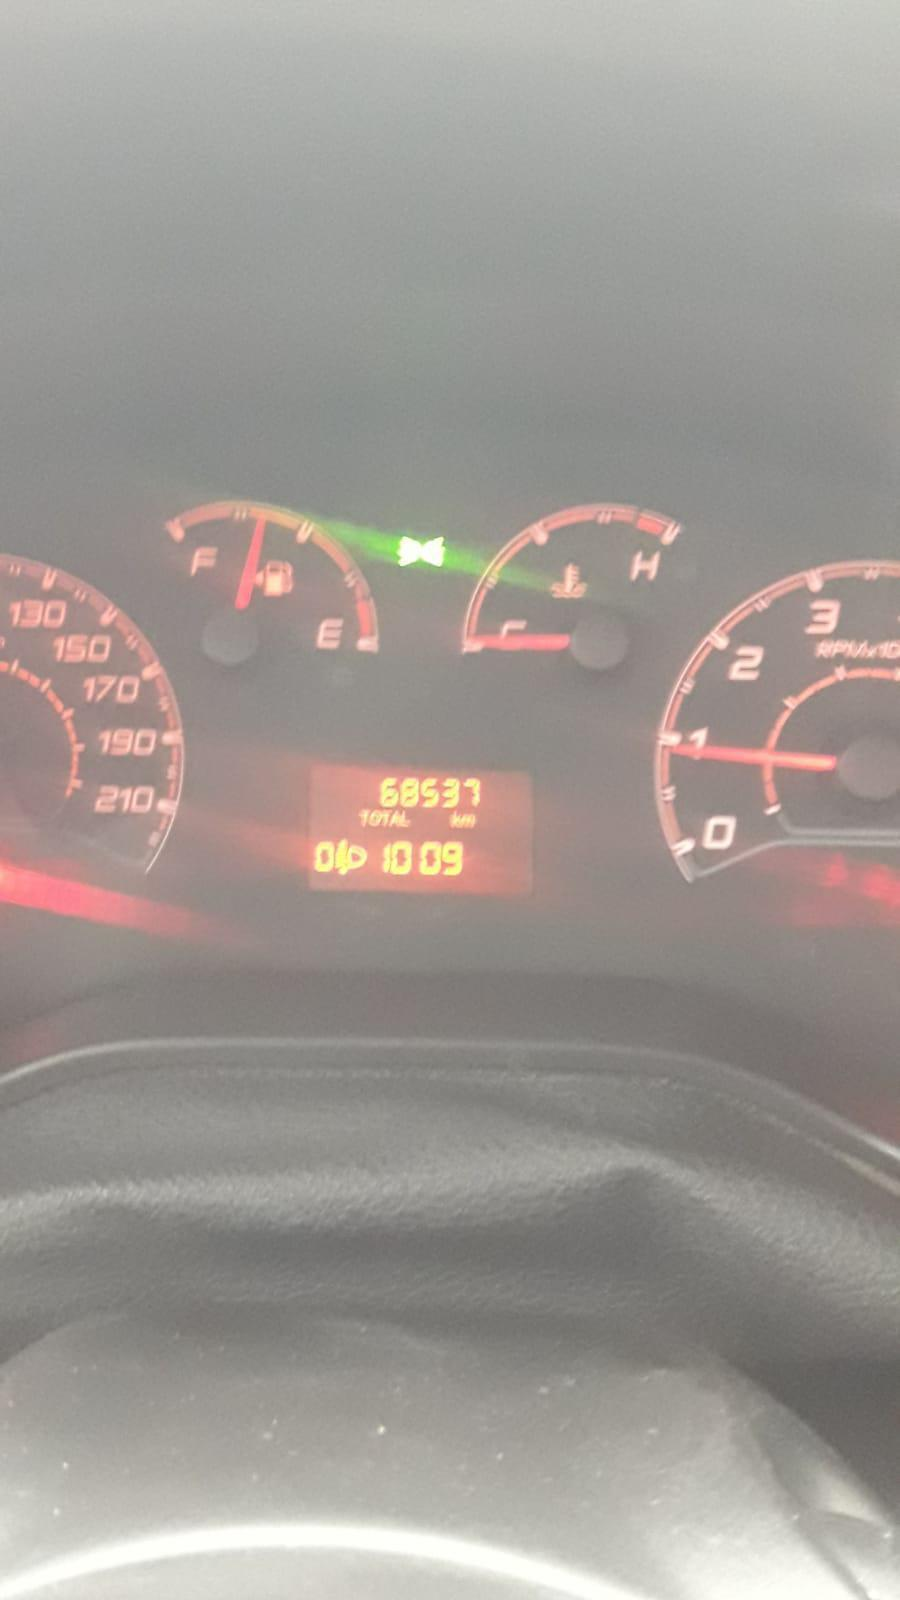0: (418, 838, 442, 876), (313, 838, 335, 874), (392, 838, 411, 876)
1: (380, 838, 390, 874)
3: (441, 776, 462, 809)
5: (420, 776, 438, 808)
6: (379, 777, 399, 807)
7: (463, 776, 484, 808)
8: (400, 775, 419, 809)
9: (442, 840, 466, 877)
X: (369, 808, 382, 827), (356, 809, 369, 827), (462, 813, 476, 827), (382, 808, 392, 827), (392, 809, 402, 827), (401, 809, 411, 827), (451, 811, 462, 827)
odometer: (296, 759, 541, 895)
